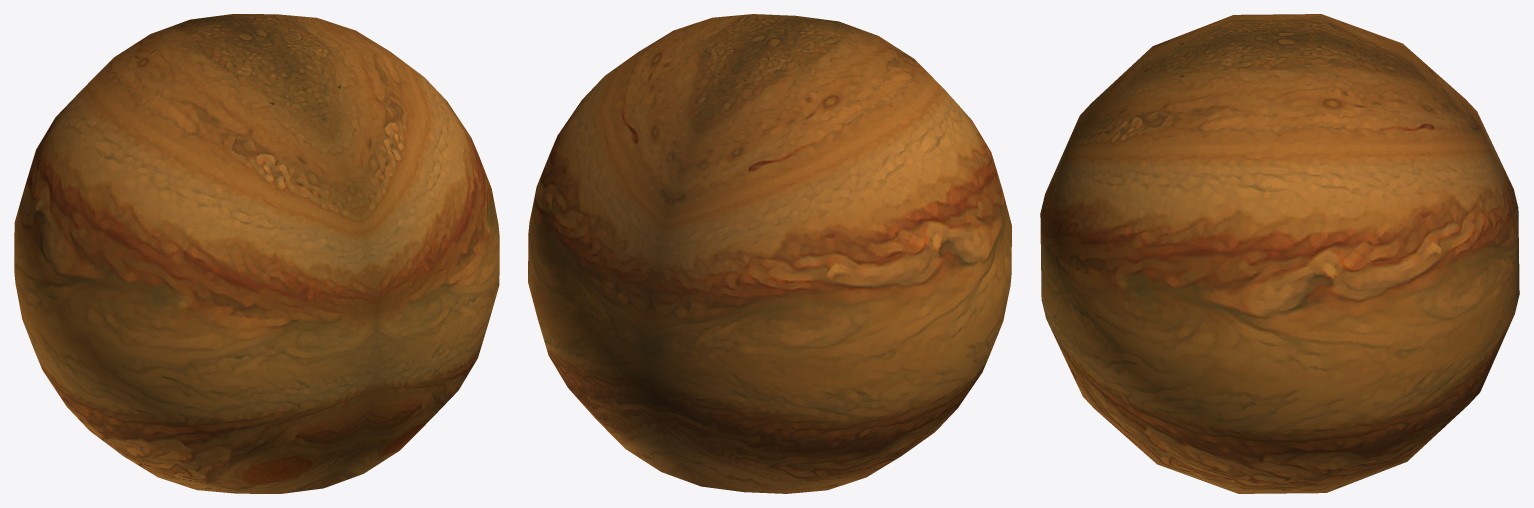
File: Jupiter.fbx
3 views of the same model, side by side, from view 1: azimuth 30°, elevation 25°; view 2: azimuth 150°, elevation 25°; view 3: azimuth 270°, elevation 25° (orthographic).
Visible parts, largest first — view 1: Jupiter; view 2: Jupiter; view 3: Jupiter.
Part boxes in pixels (box(x1,y1,x2,y2)): Jupiter: box(14, 14, 499, 493); Jupiter: box(528, 14, 1011, 493); Jupiter: box(1040, 14, 1519, 493).
Bounding box in the file's own units: 5049 × 4963 × 4963.
1 material, 1 textured.
